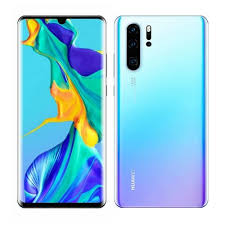huawei: (113, 11, 208, 209), (15, 12, 107, 209)
